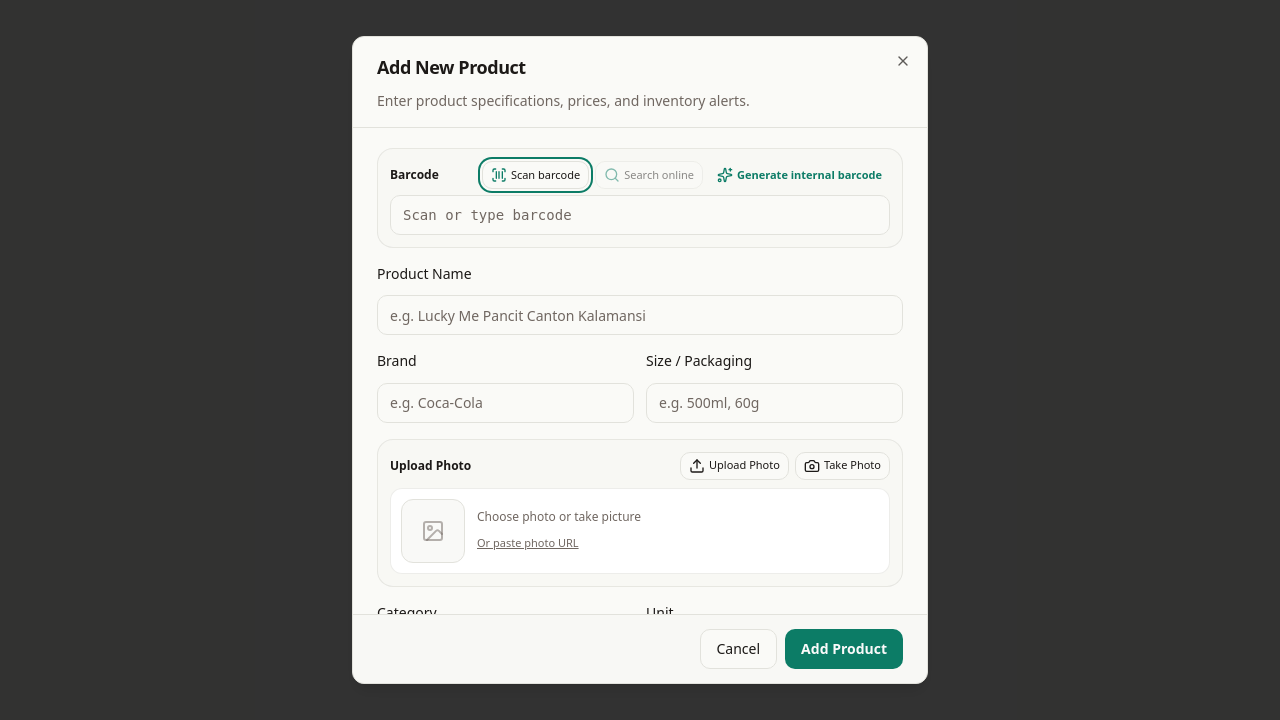
it: B10: ProductFormDialog Auto-Fill and Internal Barcode › detects local duplicate barcode and disables saving
Type "4800016601011" into the field labelled "Barcode" at (640, 215), box top-left (390, 195), bottom-right (890, 235)
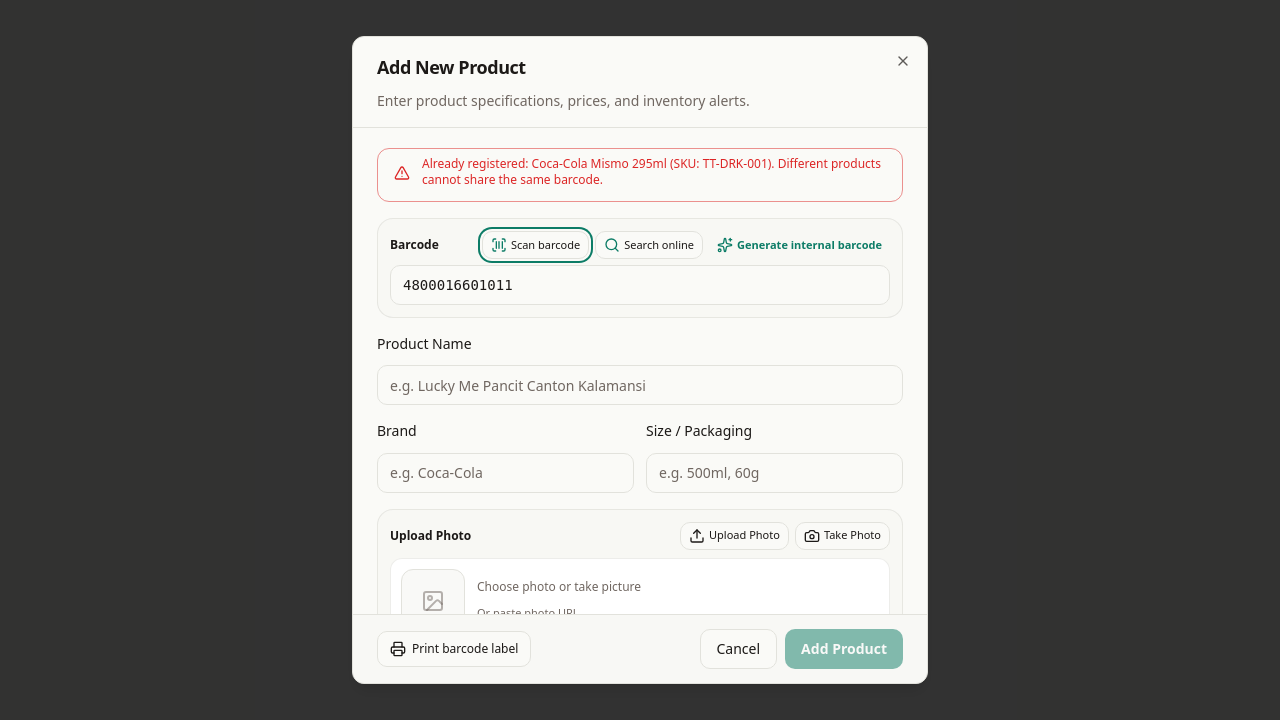
Result: the button "Add Product" is disabled at top-left (785, 629), bottom-right (903, 669)
